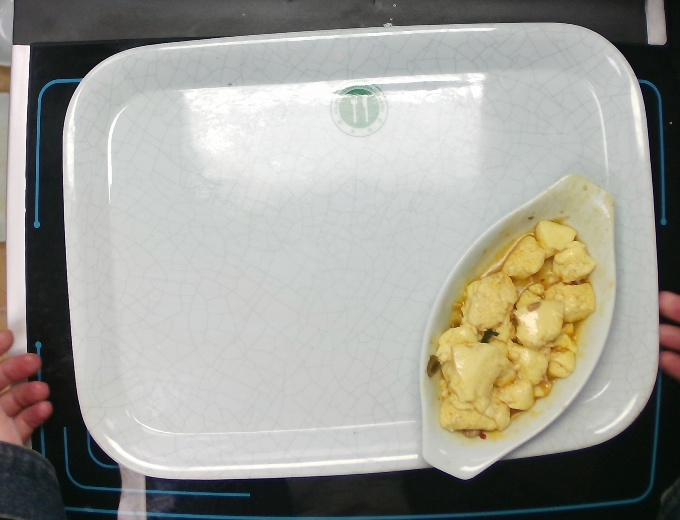JYsf-Yu_Pan: (414, 172, 625, 484)
